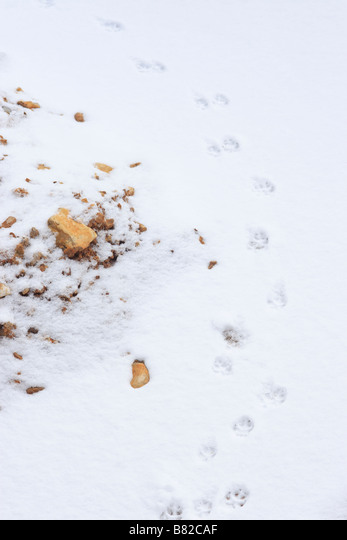fox: (245, 225, 272, 261), (231, 412, 260, 440), (225, 482, 251, 513), (265, 282, 291, 310)
